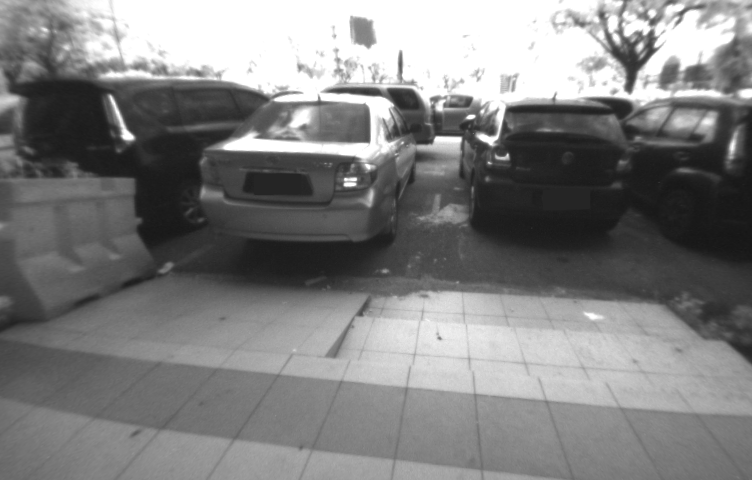down_steps: (340, 288, 748, 391)
mixed_gradient: (275, 282, 395, 374)
